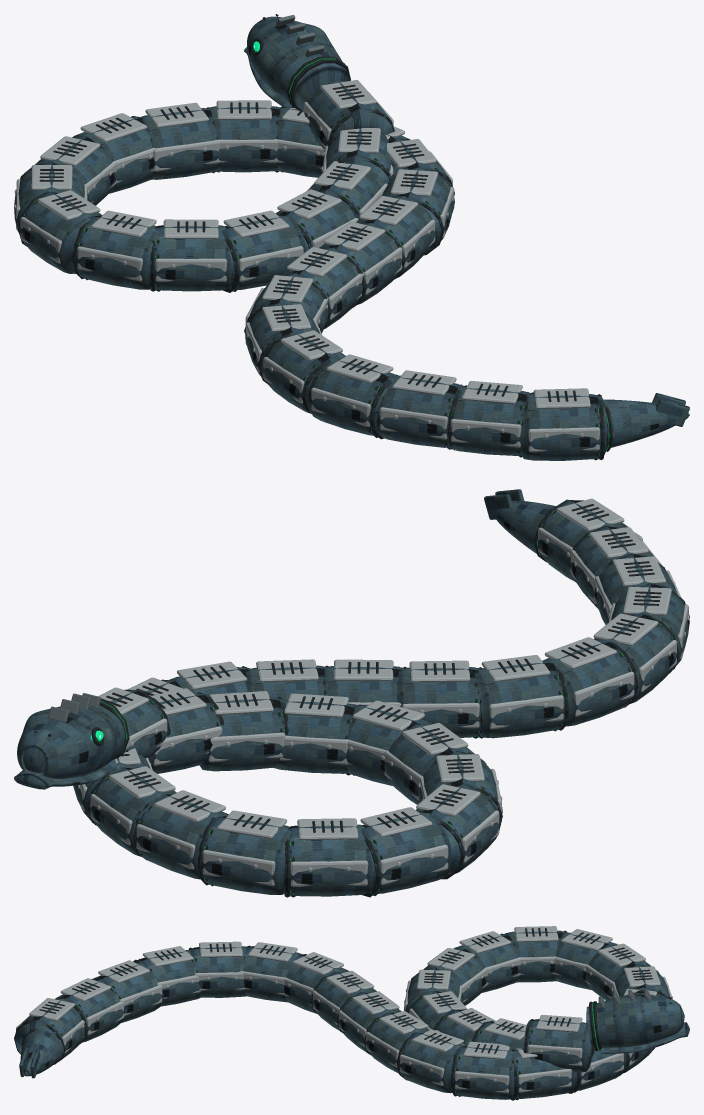
File: snake_full.glb
The picture shows the model from 3 angles, top to bottom: view 1: azimuth 30°, elevation 25°; view 2: azimuth 150°, elevation 25°; view 3: azimuth 270°, elevation 25°; orthographic projection. The views are drawn at different scales.
Visible parts, largest first — view 1: SnakeHead, SnakeSegment.026, SnakeSegment.006, SnakeSegment.005, SnakeSegment.024, SnakeSegment.025, SnakeSegment.023, SnakeSegment.011, SnakeSegment.004, SnakeSegment.012, SnakeSegment.007, SnakeSegment (+46 smaller); view 2: SnakeHead, SnakeSegment.020, SnakeSegment.010, SnakeSegment.009, SnakeSegment.008, SnakeSegment.002, SnakeSegment.021, SnakeSegment.003, SnakeSegment.011, SnakeSegment.019, SnakeSegment.001, SnakeSegment.007 (+50 smaller); view 3: SnakeHead, SnakeSegment.015, SnakeSegment, SnakeSegment.016, SnakeSegment.022, SnakeSegment.021, SnakeSegment.014, SnakeSegment.024, SnakeSegment.023, SnakeSegment.007, SnakeSegment.025, SnakeSegment.006 (+49 smaller).
Part boxes in pixels (x1=…): SnakeHead: x1=247, y1=16, x2=349, y2=110; SnakeSegment.026: x1=521, y1=394, x2=607, y2=460; SnakeSegment.006: x1=74, y1=215, x2=158, y2=289; SnakeSegment.005: x1=150, y1=225, x2=231, y2=291; SnakeSegment.024: x1=376, y1=375, x2=464, y2=447; SnakeSegment.025: x1=448, y1=386, x2=533, y2=455; SnakeSegment.023: x1=307, y1=359, x2=397, y2=435; SnakeSegment.011: x1=141, y1=108, x2=218, y2=179; SnakeSegment.004: x1=221, y1=215, x2=306, y2=289; SnakeSegment.012: x1=206, y1=106, x2=280, y2=172; SnakeSegment.007: x1=19, y1=191, x2=102, y2=273; SnakeSegment: x1=304, y1=79, x2=393, y2=149; SnakeHead: x1=17, y1=705, x2=128, y2=778; SnakeSegment.020: x1=474, y1=660, x2=568, y2=738; SnakeSegment.010: x1=198, y1=816, x2=290, y2=894; SnakeSegment.009: x1=283, y1=824, x2=372, y2=896; SnakeSegment.008: x1=361, y1=812, x2=452, y2=893; SnakeSegment.002: x1=199, y1=697, x2=287, y2=771; SnakeSegment.021: x1=543, y1=641, x2=636, y2=726; SnakeSegment.003: x1=273, y1=699, x2=356, y2=773; SnakeSegment.011: x1=135, y1=794, x2=228, y2=879; SnakeSegment.019: x1=397, y1=667, x2=481, y2=737; SnakeSegment.001: x1=148, y1=693, x2=221, y2=773; SnakeSegment.007: x1=416, y1=784, x2=500, y2=874; SnakeHead: x1=586, y1=993, x2=684, y2=1047; SnakeSegment.015: x1=450, y1=1046, x2=515, y2=1099; SnakeSegment: x1=523, y1=1019, x2=594, y2=1072; SnakeSegment.016: x1=398, y1=1032, x2=465, y2=1093; SnakeSegment.022: x1=189, y1=946, x2=246, y2=997; SnakeSegment.021: x1=243, y1=946, x2=301, y2=1002; SnakeSegment.014: x1=512, y1=1049, x2=575, y2=1098; SnakeSegment.024: x1=93, y1=963, x2=164, y2=1022; SnakeSegment.023: x1=135, y1=950, x2=200, y2=1006; SnakeSegment.007: x1=505, y1=930, x2=566, y2=982; SnakeSegment.025: x1=55, y1=981, x2=124, y2=1042; SnakeSegment.006: x1=453, y1=934, x2=520, y2=992.
Size of the model in its own units: 6.17 by 2.1 by 12.34.
Materials: 8 (3 with a texture image).
